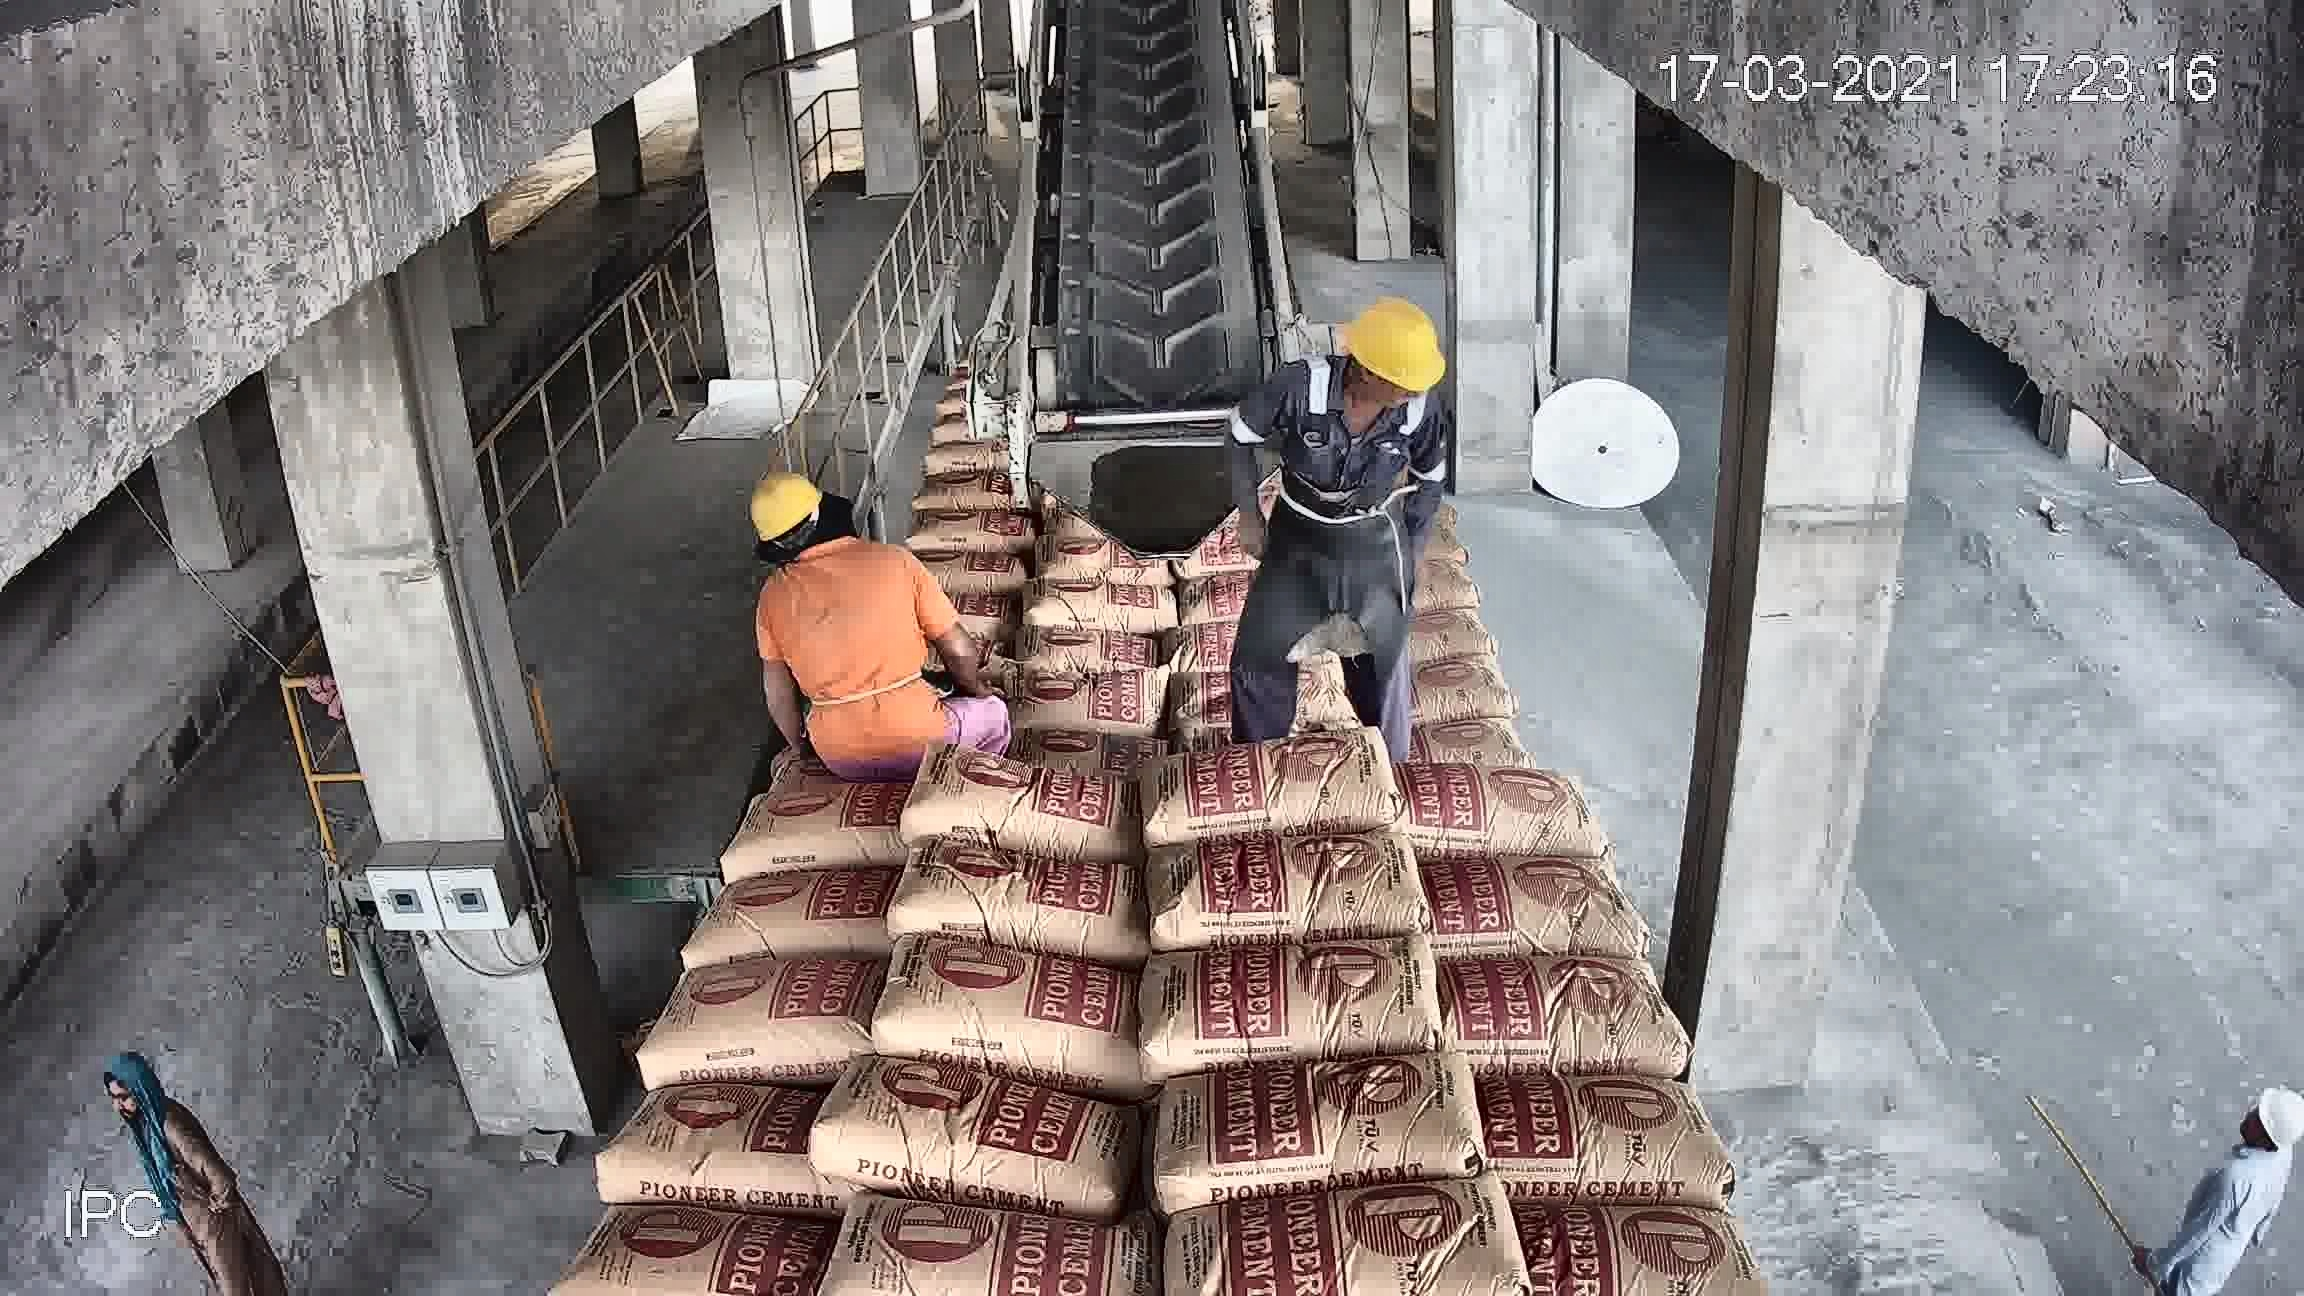bag: (1095, 119, 1214, 226)
bag_h: (1138, 1051, 1502, 1217), (828, 1048, 1100, 1204), (1179, 1177, 1527, 1294), (1182, 934, 1468, 1074), (1154, 817, 1435, 949), (650, 932, 896, 1067), (1426, 949, 1673, 1081), (608, 1067, 839, 1206), (885, 954, 1139, 1074), (1157, 718, 1408, 826), (891, 848, 1131, 957), (807, 1222, 1157, 1296), (1476, 1082, 1730, 1180), (1147, 582, 1385, 684), (1510, 1201, 1760, 1291), (1407, 853, 1636, 946), (1139, 669, 1402, 748), (1332, 695, 1568, 777), (1405, 763, 1608, 855), (1152, 506, 1351, 597), (718, 777, 911, 867), (706, 866, 907, 946), (590, 1218, 845, 1282), (905, 771, 1138, 837), (755, 693, 927, 782), (953, 617, 1154, 690), (1386, 612, 1544, 695), (798, 635, 956, 715), (1358, 552, 1524, 628), (981, 680, 1146, 755), (804, 578, 961, 644), (968, 559, 1150, 612), (1359, 476, 1461, 532), (1340, 521, 1484, 559), (1079, 491, 1174, 540), (1336, 453, 1435, 489), (915, 506, 975, 555), (1359, 411, 1426, 454)
belt: (1054, 17, 1264, 380)
